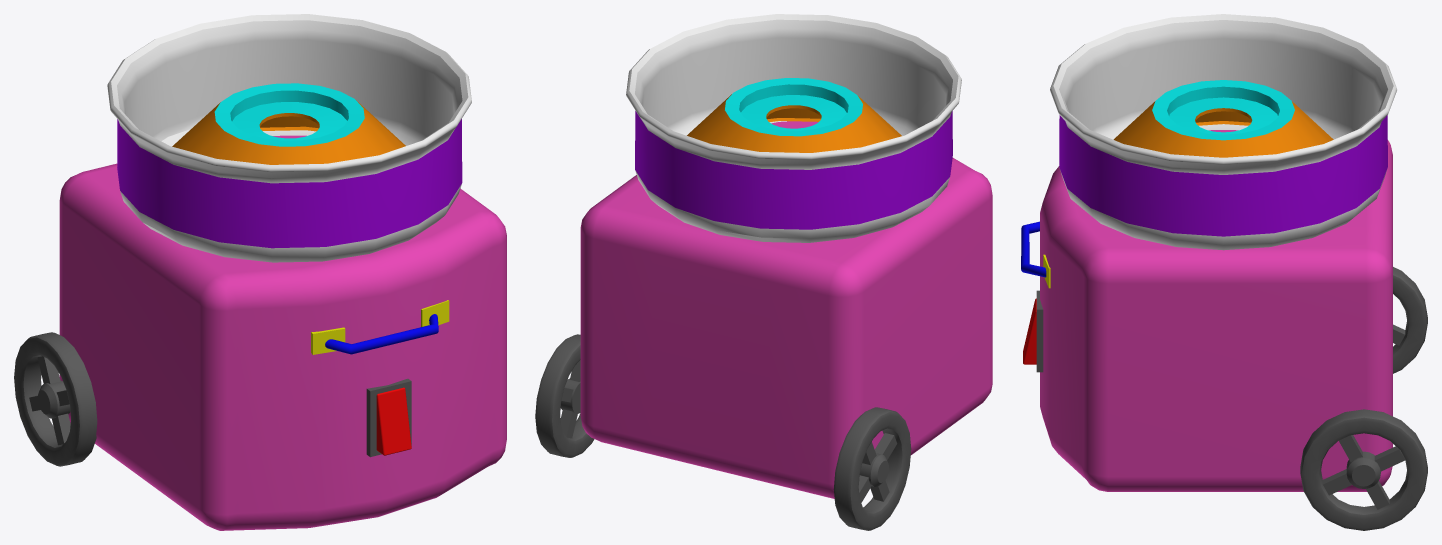
Rendered from candy_machine.fbx.
3 views of the same model, side by side, from view 1: azimuth 30°, elevation 25°; view 2: azimuth 150°, elevation 25°; view 3: azimuth 270°, elevation 25° (orthographic). The views are drawn at different scales.
Visible parts, largest first — view 1: pCube16, pCylinder25, pPipe2, pCube18, pCylinder24, pCube17, pCube19; view 2: pCube16, pCylinder25, pPipe2, pPipe3; view 3: pCube16, pCylinder25, pPipe3, pPipe2, pCylinder24, pCube18, pCube17.
Part boxes in pixels (x1,y1,x2,y2): pCube16: (59, 135, 506, 530); pCylinder25: (107, 14, 471, 262); pPipe2: (14, 332, 97, 466); pCube18: (376, 387, 411, 455); pCylinder24: (325, 314, 438, 354); pCube17: (366, 378, 411, 457); pCube19: (311, 327, 345, 354); pCube16: (580, 121, 992, 498); pCylinder25: (626, 14, 961, 242); pPipe2: (833, 407, 911, 530); pPipe3: (535, 334, 594, 457); pCube16: (1040, 130, 1392, 491); pCylinder25: (1050, 14, 1396, 250); pPipe3: (1300, 409, 1427, 530); pPipe2: (1393, 267, 1427, 373); pCylinder24: (1021, 221, 1046, 277); pCube18: (1023, 298, 1036, 364); pCube17: (1036, 290, 1043, 372).
Bounding box in the file's own units: 24.58 × 26.1 × 26.3.
